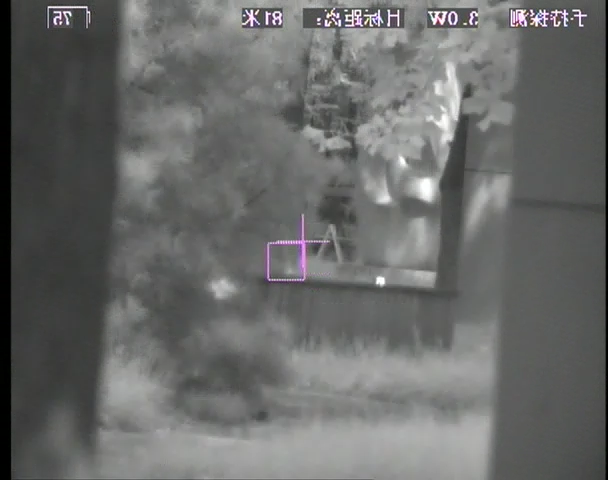my: (375, 275, 386, 286)
